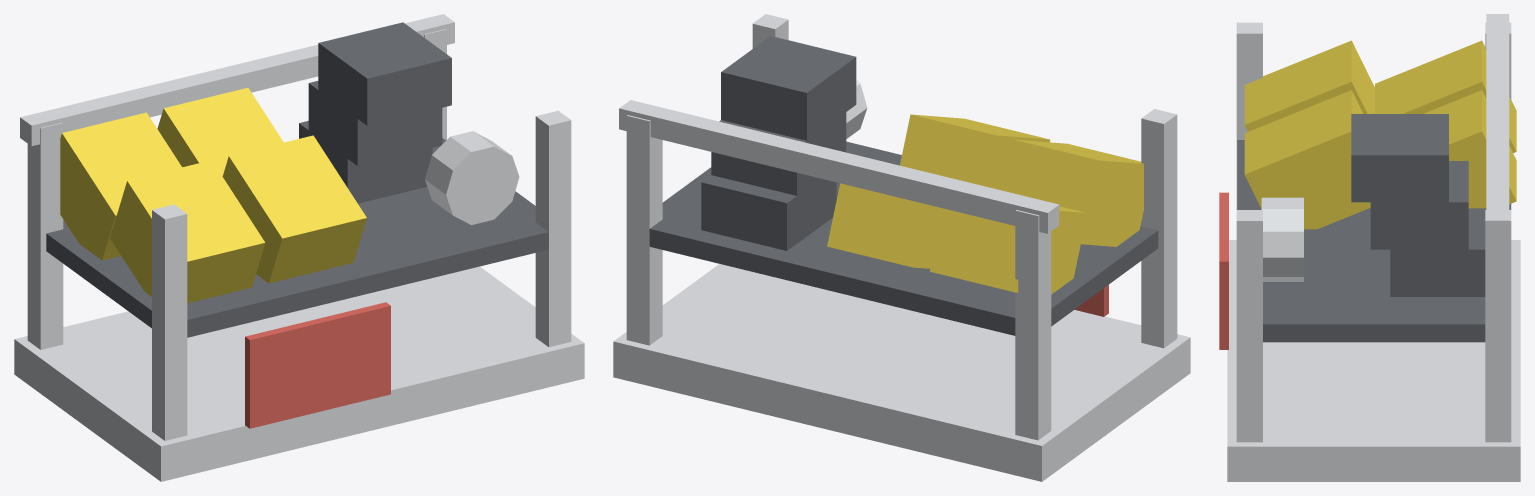
Rendered from ferry-terminal-and-harbour-crossing-ferry-terminal-and-121cac7e__35641.glb.
3 renders of one model, left to right at view 1: azimuth 30°, elevation 25°; view 2: azimuth 150°, elevation 25°; view 3: azimuth 270°, elevation 25°, orthographic.
Visible parts, largest first — view 1: ferry-terminal-and-harbour-crossing-wheel-chock-and-lashing- (×4); view 2: ferry-terminal-and-harbour-crossing-wheel-chock-and-lashing- (×3); view 3: ferry-terminal-and-harbour-crossing-wheel-chock-and-lashing- (×4).
Boxes of the visible parts, bbox=[...] form: ferry-terminal-and-harbour-crossing-wheel-chock-and-lashing- (×4): bbox=[14, 14, 584, 481]; ferry-terminal-and-harbour-crossing-wheel-chock-and-lashing- (×3): bbox=[613, 14, 1190, 481]; ferry-terminal-and-harbour-crossing-wheel-chock-and-lashing- (×4): bbox=[1219, 14, 1520, 481].
Bounding box in the file's own units: 1.5 × 0.99 × 0.925.
